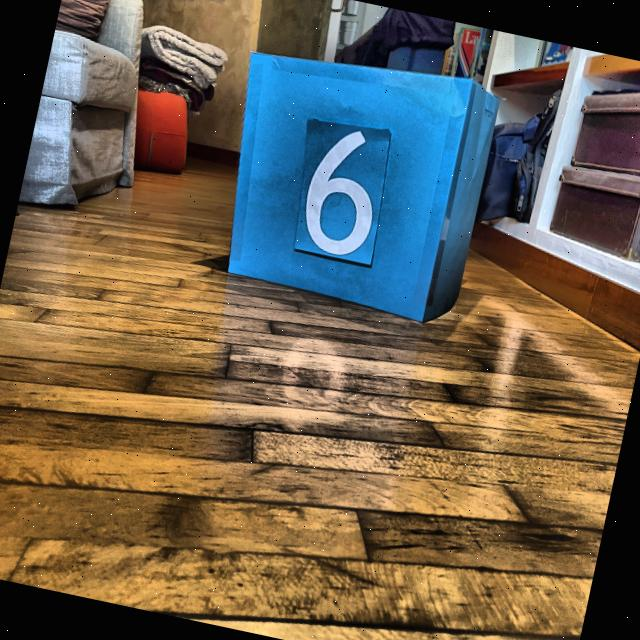blue box: (203, 30, 507, 332)
six: (293, 120, 391, 263)
